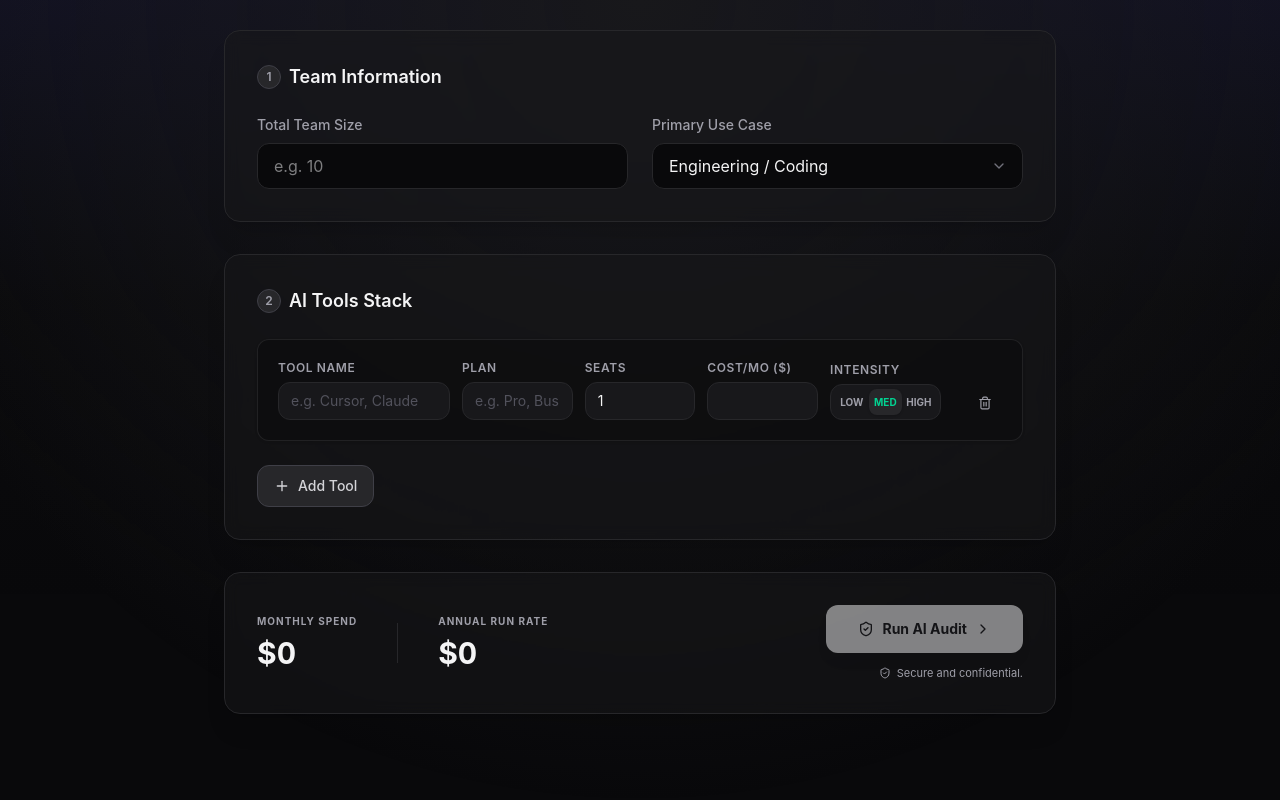
it: LandingPage › calculates monthly and annual spend correctly
This screenshot has width=1280, height=800.
(page scrolled)
First is Team Size, second is Seats, third is Cost
Type "100" into the number field labelled "Cost/mo ($)". click: (763, 400)
box: left=707, top=382, right=818, bottom=420
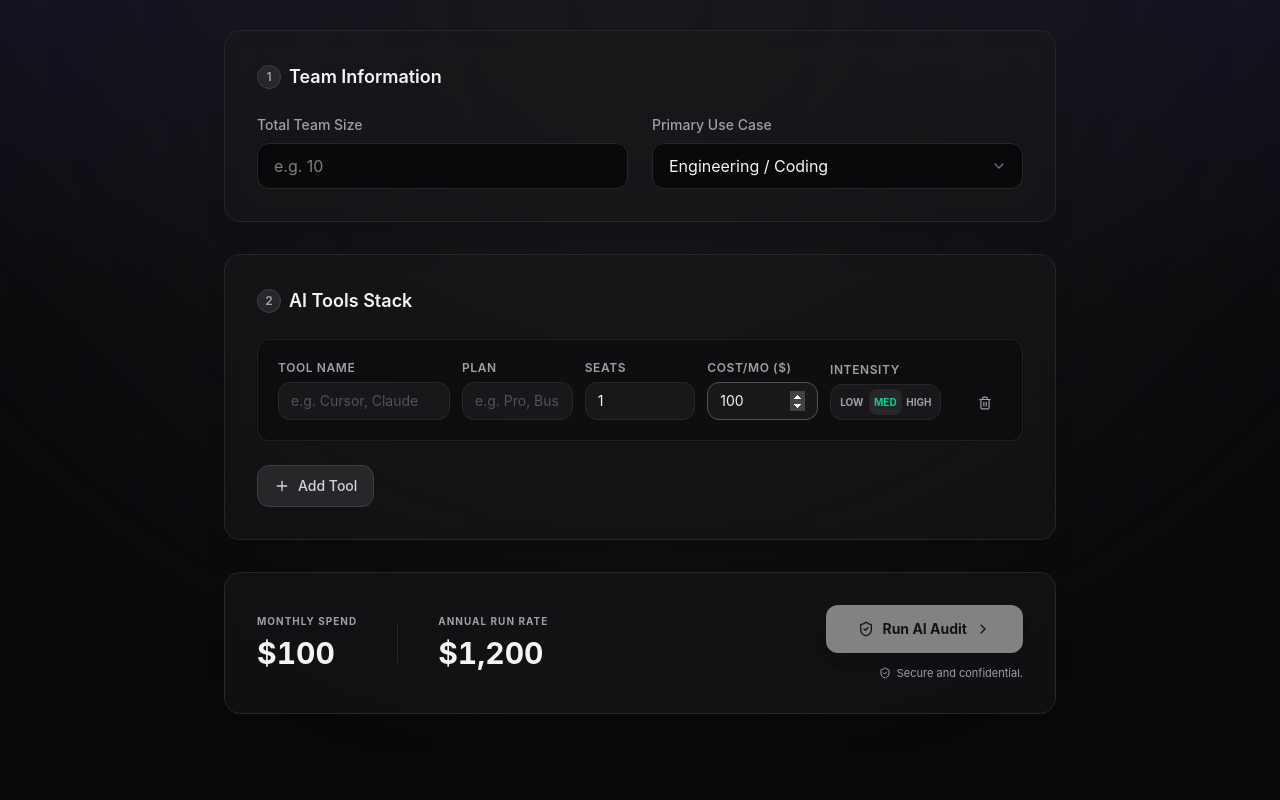
Now the text "$100" is shown, box left=257, top=635, right=335, bottom=671
Now the text "$1,200" is shown, box left=438, top=635, right=548, bottom=671
